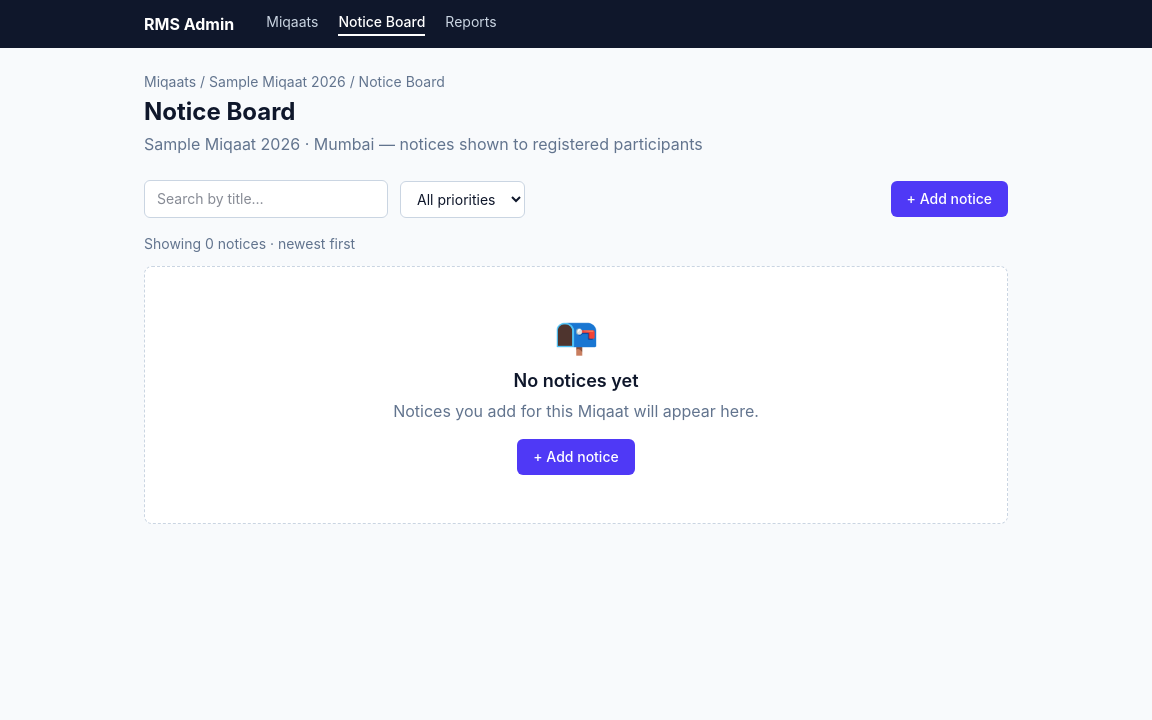
Test case: NoticeBoard › debounces search: typing several characters sends a single request
Expected: the heading "No notices yet" is shown, [514, 367, 638, 395]
Step 1. Type "gates" into the search field with placeholder "Search by title…" → (266, 199), box [144, 180, 388, 218]
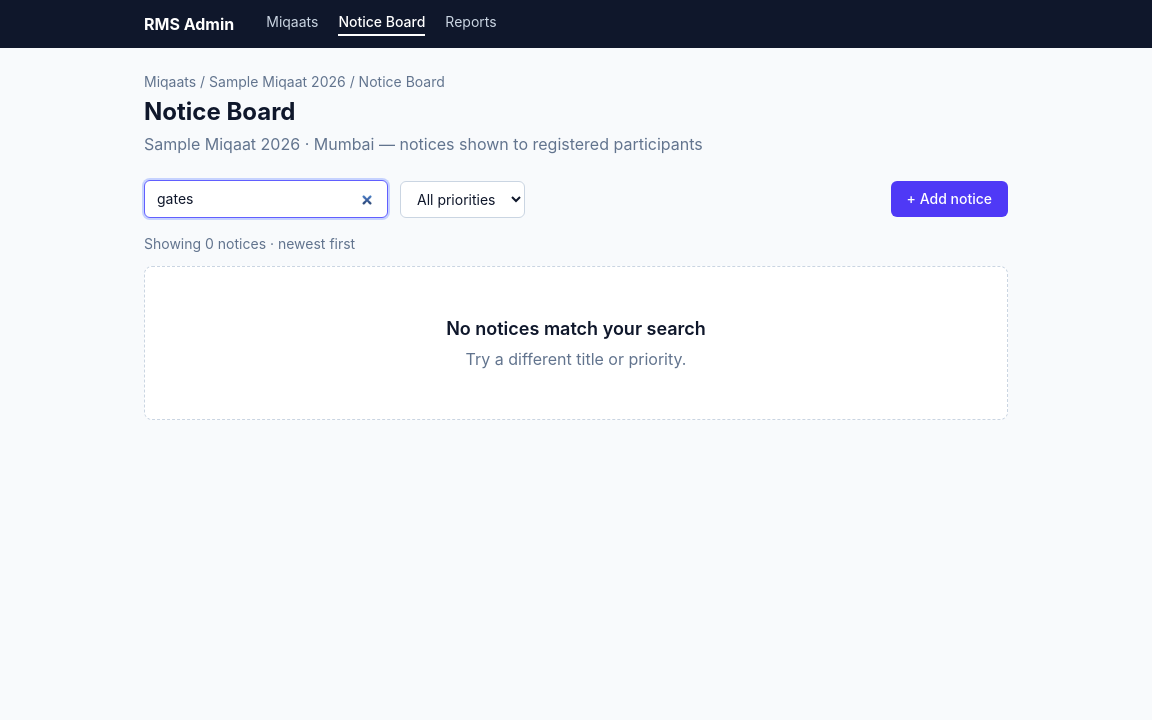
Expected: the heading "No notices match your search" is shown, [446, 315, 706, 343]
